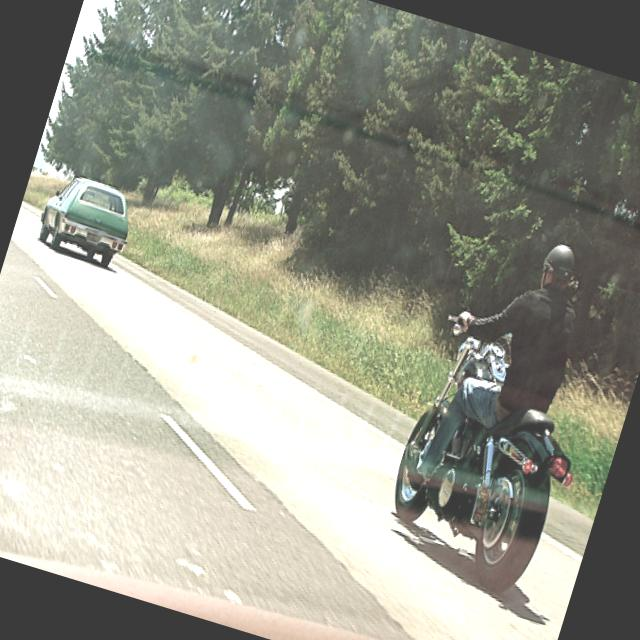Vehicle: (370, 314, 610, 599), (32, 168, 140, 270)
